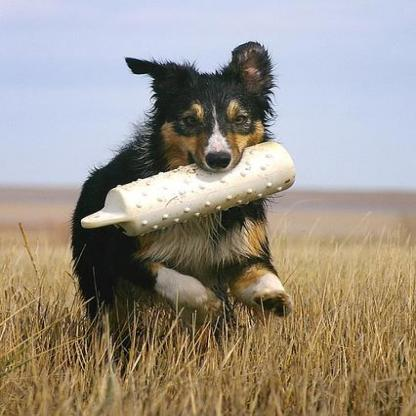collie: (68, 39, 290, 332)
